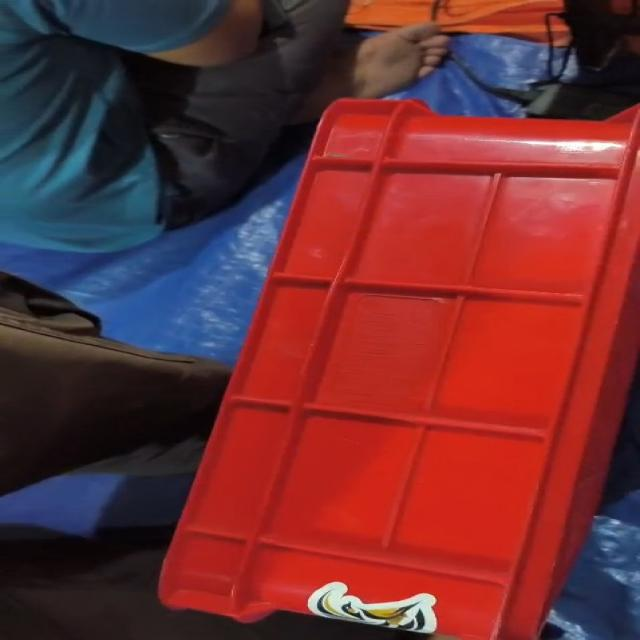red plastic box: (156, 98, 638, 639)
